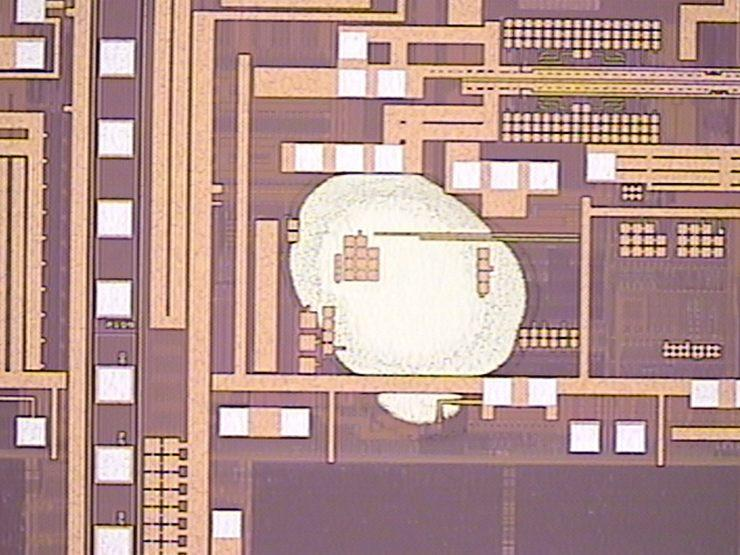BLOCK ETCH: (279, 157, 539, 434)
